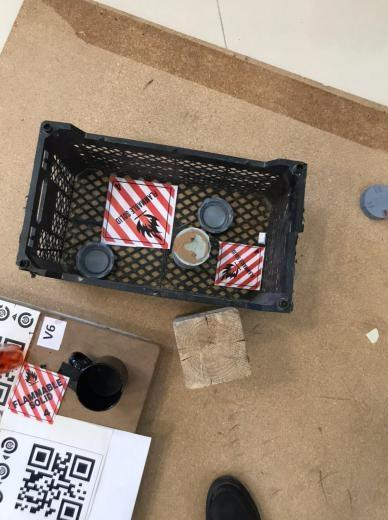flammable-solid: (100, 181, 177, 247), (9, 362, 70, 421), (215, 243, 266, 291)
